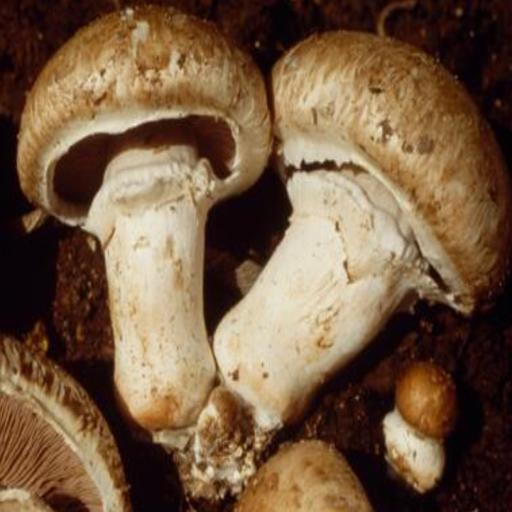Shiitake Mushroom: (192, 13, 512, 469), (0, 0, 297, 449)
